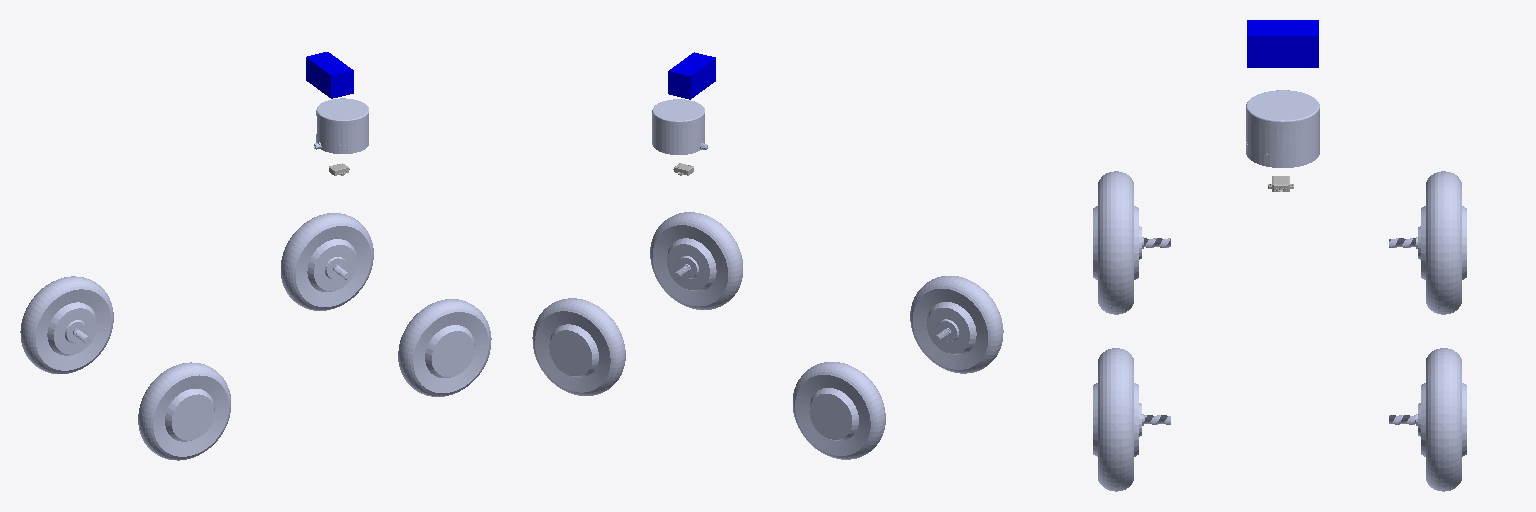
The robot description file, URDF, robot "simulation":
<!-- This skidsteer_v3 was automatically created by SolidWorks to skidsteer_v3 Exporter! Originally created by Stephen Brawner (brawner@gmail.com) 
     Commit Version: 1.6.0-4-g7f85cfe  Build Version: 1.6.7995.38578
     For more information, please see http://wiki.ros.org/sw_skidsteer_v3_exporter -->
<robot
  name="simulation">
  <link
    name="base_footprint">
  </link>
  
  <link
    name="base_link">
    <inertial>
      <origin
        xyz="0.02708 -0.023695 0.065325"
        rpy="0 0 0" />
      <mass
        value="15" />
      <inertia
        ixx="0.17851"
        ixy="6.8935E-06"
        ixz="9.9958E-05"
        iyy="0.17654"
        iyz="-6.5848E-08"
        izz="0.32381" />
    </inertial>
    <visual>
      <origin
        xyz="0 0 0"
        rpy="0 0 0" />
      <geometry>
        <mesh
          filename="package://description/meshes/visual/base_link.STL" />
      </geometry>
      <material
        name="">
        <color
          rgba="0.79216 0.81961 0.93333 1" />
      </material>
    </visual>
  </link>
  <joint
    name="base_link_jt"
    type="fixed">
    <origin
      xyz="0 0.0017871 0.13952"
      rpy="0 0 0" />
    <parent
      link="base_footprint" />
    <child
      link="base_link" />
    <axis
      xyz="0 0 0" />
  </joint>
  <link
    name="wheel_back_right">
    <inertial>
      <origin
        xyz="-1.7854E-08 -1.0601E-08 -0.032453"
        rpy="0 0 0" />
      <mass
        value="3.75" />
      <inertia
        ixx="0.0036328"
        ixy="2.2843E-10"
        ixz="-1.3812E-09"
        iyy="0.0036328"
        iyz="-1.1956E-09"
        izz="0.0065547" />
    </inertial>
    <visual>
      <origin
        xyz="0 0 0"
        rpy="0 0 0" />
      <geometry>
        <mesh
          filename="package://description/meshes/visual/wheel_back_right.STL" />
      </geometry>
      <material
        name="">
        <color
          rgba="0.79216 0.81961 0.93333 1" />
      </material>
    </visual>
    <collision>
      <origin
        xyz="0 0 0"
        rpy="0 0 0" />
      <geometry>
        <cylinder length="0.05" radius="0.1"/>
      </geometry>
    </collision>
  </link>
  <joint
    name="wheel_back_right_jt"
    type="continuous">
    <origin
      xyz="-0.29179 -0.2607 -0.039516"
      rpy="1.5708 0 0" />
    <parent
      link="base_link" />
    <child
      link="wheel_back_right" />
    <axis
      xyz="0 0 -1" />
    <limit
      effort="18"
      velocity="21.5" />
    <dynamics
      damping="0.05"
      friction="0.05" />
  </joint>
  <link
    name="wheel_back_left">
    <inertial>
      <origin
        xyz="-1.7189E-10 2.0763E-08 0.032453"
        rpy="0 0 0" />
      <mass
        value="3.75" />
      <inertia
        ixx="0.0036328"
        ixy="-2.3363E-10"
        ixz="-3.0799E-10"
        iyy="0.0036328"
        iyz="-1.8007E-09"
        izz="0.0065547" />
    </inertial>
    <visual>
      <origin
        xyz="0 0 0"
        rpy="0 0 0" />
      <geometry>
        <mesh
          filename="package://description/meshes/visual/wheel_back_left.STL" />
      </geometry>
      <material
        name="">
        <color
          rgba="0.79216 0.81961 0.93333 1" />
      </material>
    </visual>
    <collision>
      <origin
        xyz="0 0 0"
        rpy="0 0 0" />
      <geometry>
        <cylinder length="0.05" radius="0.1"/>
      </geometry>
    </collision>
  </link>
  <joint
    name="wheel_back_left_jt"
    type="continuous">
    <origin
      xyz="-0.29179 0.2607 -0.039516"
      rpy="1.5708 0 0" />
    <parent
      link="base_link" />
    <child
      link="wheel_back_left" />
    <axis
      xyz="0 0 -1" />
    <limit
      effort="18"
      velocity="21.5" />
    <dynamics
      damping="0.05"
      friction="0.05" />
  </joint>
  <link
    name="wheel_front_left">
    <inertial>
      <origin
        xyz="1.7854E-08 -1.0601E-08 0.032453"
        rpy="0 0 0" />
      <mass
        value="3.75" />
      <inertia
        ixx="0.0036328"
        ixy="-2.2843E-10"
        ixz="-1.3812E-09"
        iyy="0.0036328"
        iyz="1.1956E-09"
        izz="0.0065547" />
    </inertial>
    <visual>
      <origin
        xyz="0 0 0"
        rpy="0 0 0" />
      <geometry>
        <mesh
          filename="package://description/meshes/visual/wheel_front_left.STL" />
      </geometry>
      <material
        name="">
        <color
          rgba="0.79216 0.81961 0.93333 1" />
      </material>
    </visual>
    <collision>
      <origin
        xyz="0 0 0"
        rpy="0 0 0" />
      <geometry>
        <cylinder length="0.05" radius="0.1"/>
      </geometry>
    </collision>
  </link>
  <joint
    name="wheel_front_left_jt"
    type="continuous">
    <origin
      xyz="0.29179 0.2607 -0.039516"
      rpy="1.5708 0 0" />
    <parent
      link="base_link" />
    <child
      link="wheel_front_left" />
    <axis
      xyz="0 0 -1" />
    <limit
      effort="18"
      velocity="21.5" />
    <dynamics
      damping="0.05"
      friction="0.05" />
  </joint>
  <link
    name="wheel_front_right">
    <inertial>
      <origin
        xyz="1.7189E-10 2.0763E-08 -0.032453"
        rpy="0 0 0" />
      <mass
        value="3.75" />
      <inertia
        ixx="0.0036328"
        ixy="2.3363E-10"
        ixz="-3.0799E-10"
        iyy="0.0036328"
        iyz="1.8007E-09"
        izz="0.0065547" />
    </inertial>
    <visual>
      <origin
        xyz="0 0 0"
        rpy="0 0 0" />
      <geometry>
        <mesh
          filename="package://description/meshes/visual/wheel_front_right.STL" />
      </geometry>
      <material
        name="">
        <color
          rgba="0.79216 0.81961 0.93333 1" />
      </material>
    </visual>
    <collision>
      <origin
        xyz="0 0 0"
        rpy="0 0 0" />
      <geometry>
        <cylinder length="0.05" radius="0.1"/>
      </geometry>
    </collision>
  </link>
  <joint
    name="wheel_front_right_jt"
    type="continuous">
    <origin
      xyz="0.29179 -0.2607 -0.039516"
      rpy="1.5708 0 0" />
    <parent
      link="base_link" />
    <child
      link="wheel_front_right" />
    <axis
      xyz="0 0 -1" />
    <limit
      effort="18"
      velocity="21.5" />
    <dynamics
      damping="0.05"
      friction="0.05" />
  </joint>
  <link
    name="lidar">
    <inertial>
      <origin
        xyz="-0.00010213 3.2869E-06 -0.036403"
        rpy="0 0 0" />
      <mass
        value="0.60561" />
      <inertia
        ixx="0.00066704"
        ixy="-1.7526E-11"
        ixz="-1.8129E-06"
        iyy="0.00067092"
        iyz="6.6764E-08"
        izz="0.00080407" />
    </inertial>
    <visual>
      <origin
        xyz="0 0 0"
        rpy="0 0 0" />
      <geometry>
        <mesh
          filename="package://description/meshes/visual/lidar.STL" />
      </geometry>
      <material
        name="">
        <color
          rgba="0.79216 0.81961 0.93333 1" />
      </material>
    </visual>
    <collision>
      <origin
        xyz="0 0 0"
        rpy="0 0 0" />
      <geometry>
        <mesh
          filename="package://description/meshes/visual/lidar.STL" />
      </geometry>
    </collision>
  </link>
  <joint
    name="lidar_jt"
    type="fixed">
    <origin
      xyz="0.1976 0.0041424 0.4005"
      rpy="0 0 0" />
    <parent
      link="base_link" />
    <child
      link="lidar" />
    <axis
      xyz="0 0 0" />
  </joint>
  <link
    name="imu">
    <inertial>
      <origin
        xyz="0.0012583 9.2935E-06 -0.0061404"
        rpy="0 0 0" />
      <mass
        value="0.0040208" />
      <inertia
        ixx="3.2279E-07"
        ixy="1.0925E-10"
        ixz="5.0046E-09"
        iyy="3.7643E-07"
        iyz="5.7411E-11"
        izz="6.7382E-07" />
    </inertial>
    <visual>
      <origin
        xyz="0 0 0"
        rpy="0 0 0" />
      <geometry>
        <mesh
          filename="package://description/meshes/visual/imu.STL" />
      </geometry>
      <material
        name="">
        <color
          rgba="0.75294 0.75294 0.75294 1" />
      </material>
    </visual>
    <collision>
      <origin
        xyz="0 0 0"
        rpy="0 0 0" />
      <geometry>
        <mesh
          filename="package://description/meshes/visual/imu.STL" />
      </geometry>
    </collision>
  </link>
  <joint
    name="imu_jt"
    type="fixed">
    <origin
      xyz="0.186696441224005 0.00158367124236836 0.2805"
      rpy="0 0 0" />
    <parent
      link="base_link" />
    <child
      link="imu" />
    <axis
      xyz="0 0 0" />
  </joint>
  
  <gazebo reference="lidar">
    <sensor type="ray" name="lidar_sensor">
      <pose>0 0 0 0 0 0</pose>
      <visualize>true</visualize> 
      <update_rate>10</update_rate>
      <ray>
        <scan>
          <horizontal>
            <samples>360</samples>
            <resolution>1</resolution>
            <min_angle>-3.14159</min_angle>
            <max_angle>3.14159</max_angle>
          </horizontal>
        </scan>
        <range>
          <min>0.15</min> 
          <max>12.0</max> 
          <resolution>0.015</resolution>
        </range>
      </ray>
      <plugin name="gazebo_ros_lidar_controller" filename="libgazebo_ros_ray_sensor.so">
        <ros>
          <remapping>~/out:=scan</remapping>
        </ros>
        <output_type>sensor_msgs/LaserScan</output_type>
        <frame_name>lidar</frame_name>
      </plugin>
    </sensor>
  </gazebo>
  
  <gazebo>
    <plugin name="skid_steer_drive" filename="libgazebo_ros_diff_drive.so">
      <ros>
        <namespace>/</namespace>
        <remapping>cmd_vel:=cmd_vel</remapping>
        <remapping>odom:=odom</remapping>
      </ros>
    
      <num_wheel_pairs>2</num_wheel_pairs>
    
      <left_joint>wheel_front_left_jt</left_joint>
      <right_joint>wheel_front_right_jt</right_joint>

      <left_joint>wheel_back_left_jt</left_joint>
      <right_joint>wheel_back_right_jt</right_joint>

      <wheel_separation>0.583</wheel_separation>
      <wheel_diameter>0.2</wheel_diameter>
      <max_wheel_torque>200</max_wheel_torque>
      <max_wheel_acceleration>1.0</max_wheel_acceleration>
    
      <publish_odom>true</publish_odom>
      <publish_odom_tf>false</publish_odom_tf>
      <publish_wheel_tf>false</publish_wheel_tf>
    
      <odometry_frame>odom</odometry_frame>
      <robot_base_frame>base_footprint</robot_base_frame>
    </plugin>
  </gazebo>
  
  <gazebo>
    <plugin name="gazebo_ros_joint_state_publisher" filename="libgazebo_ros_joint_state_publisher.so">
      <ros>
        <namespace>/</namespace>
        <remapping>joint_states:=joint_states</remapping>
      </ros>
      <update_rate>50</update_rate>
      <joint_name>wheel_back_left_jt</joint_name>
      <joint_name>wheel_back_right_jt</joint_name>
      <joint_name>wheel_front_left_jt</joint_name>
      <joint_name>wheel_front_right_jt</joint_name>
    </plugin>
  </gazebo>
  
  <gazebo reference="imu">
    <gravity>true</gravity>
    <sensor name="imu_sensor" type="imu">
      <always_on>true</always_on>
      <update_rate>200</update_rate> 
      <visualize>false</visualize>
      <imu>
        <angular_velocity>
          <x><noise type="gaussian"><mean>0.0</mean><stddev>2e-4</stddev></noise></x>
          <y><noise type="gaussian"><mean>0.0</mean><stddev>2e-4</stddev></noise></y>
          <z><noise type="gaussian"><mean>0.0</mean><stddev>2e-4</stddev></noise></z>
        </angular_velocity>
        <linear_acceleration>
          <x><noise type="gaussian"><mean>0.0</mean><stddev>1.7e-2</stddev></noise></x>
          <y><noise type="gaussian"><mean>0.0</mean><stddev>1.7e-2</stddev></noise></y>
          <z><noise type="gaussian"><mean>0.0</mean><stddev>1.7e-2</stddev></noise></z>
        </linear_acceleration>
      </imu>
      <plugin name="imu_plugin" filename="libgazebo_ros_imu_sensor.so">
        <ros>
          <namespace>/</namespace>
          <remapping>~/out:=/imu/data</remapping>
        </ros>
        <frame_name>imu</frame_name>
      </plugin>
    </sensor>
  </gazebo>
  
  <gazebo reference="wheel_back_right">
    <mu1>0.9</mu1> <mu2>0.2</mu2> <kp>1000000.0</kp> <kd>1.0</kd> <fdir1>1 0 0</fdir1>
  </gazebo>
  <gazebo reference="wheel_back_left">
    <mu1>0.9</mu1> <mu2>0.2</mu2> <kp>1000000.0</kp> <kd>1.0</kd> <fdir1>1 0 0</fdir1>
  </gazebo>
  <gazebo reference="wheel_front_left">
    <mu1>0.9</mu1> <mu2>0.2</mu2> <kp>1000000.0</kp> <kd>1.0</kd> <fdir1>1 0 0</fdir1>
  </gazebo>
  <gazebo reference="wheel_front_right">
    <mu1>0.9</mu1> <mu2>0.2</mu2> <kp>1000000.0</kp> <kd>1.0</kd> <fdir1>1 0 0</fdir1>
  </gazebo>
  
  <link name="camera_link">
    <visual>
      <geometry>
        <box size="0.05 0.1 0.05"/>
      </geometry>
      <material name="blue">
        <color rgba="0 0 1 1"/>
      </material>
    </visual>
  </link>

  <joint name="camera_joint" type="fixed">
    <parent link="base_link"/>
    <child link="camera_link"/>
    <origin xyz="0.1676 0.0041424 0.4805" rpy="0 0 0"/>
  </joint>
  
  <link name="camera_optical_link"/>

  <joint name="camera_optical_joint" type="fixed">
    <parent link="camera_link"/>
    <child link="camera_optical_link"/>  
    <origin xyz="0 0 0"
          rpy="-1.57079632679 0 -1.57079632679"/>
  </joint>

  <gazebo reference="camera_link">
    <sensor type="depth" name="depth_camera">
      <update_rate>30</update_rate>
      <visualize>true</visualize>

      <camera>
        <horizontal_fov>1.047</horizontal_fov>
        <image>
          <width>640</width>
          <height>480</height>
          <format>R8G8B8</format>
        </image>
        <clip>
          <near>0.1</near>
          <far>10.0</far>
        </clip>
      </camera>

      <plugin name="camera_controller" filename="libgazebo_ros_camera.so">
        <ros>
          <namespace>/</namespace>
          <remapping>image_raw:=/camera/image_raw</remapping>
          <remapping>camera_info:=/camera/camera_info</remapping>
          <remapping>depth/image_raw:=/camera/depth</remapping>
        </ros>

        <frame_name>camera_link</frame_name>

        <hack_baseline>0.07</hack_baseline>
        <min_depth>0.1</min_depth>
        <max_depth>10.0</max_depth>
       </plugin>
    </sensor>
  </gazebo>
  
</robot>

--- What the picture shows (computed from the rendered views, not written in the file) ---
3 views of the same robot in one strip: view 1: azimuth 30°, elevation 25°; view 2: azimuth 150°, elevation 25°; view 3: azimuth 270°, elevation 25° (orthographic).
Robot: simulation — 10 links, 9 joints (4 continuous, 5 fixed); root link base_footprint; default pose: all joints at 0.
Visible links, largest first — view 1: wheel_front_right, wheel_front_left, wheel_back_left, wheel_back_right, lidar, camera_link; view 2: wheel_back_left, wheel_front_right, wheel_back_right, wheel_front_left, lidar, camera_link; view 3: wheel_front_left, wheel_back_right, wheel_front_right, wheel_back_left, lidar, camera_link.
Boxes of the visible links, x1,y1,x2,y2 form: wheel_front_right: (398,299,491,396); wheel_front_left: (281,213,373,310); wheel_back_left: (20,276,113,373); wheel_back_right: (138,362,230,460); lidar: (314,98,368,153); camera_link: (306,52,353,98); wheel_back_left: (793,362,885,459); wheel_front_right: (650,212,742,309); wheel_back_right: (910,276,1003,373); wheel_front_left: (532,298,625,395); lidar: (652,99,707,154); camera_link: (668,52,715,99); wheel_front_left: (1389,348,1466,491); wheel_back_right: (1093,171,1170,314); wheel_front_right: (1093,348,1170,491); wheel_back_left: (1389,171,1466,314); lidar: (1246,90,1319,167); camera_link: (1247,20,1318,67).
Bounding box of the posed robot: 0.7836 × 0.5214 × 0.645 m (x, y, z).
6 mesh visuals loaded from 7 distinct referenced files (6 binary STL); not drawn: 1 (reference not matched to a file when rendering).
